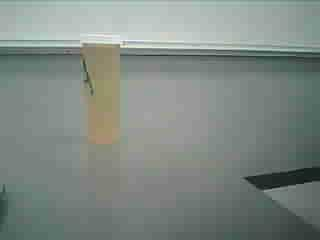Bottle A: (75, 29, 131, 151)
